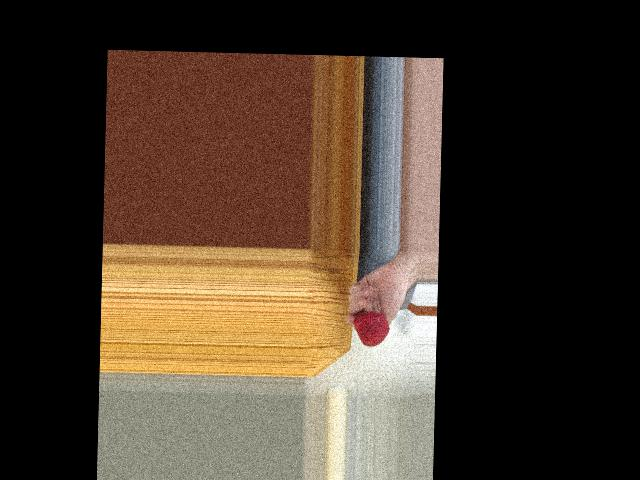apple: (353, 310, 390, 348)
